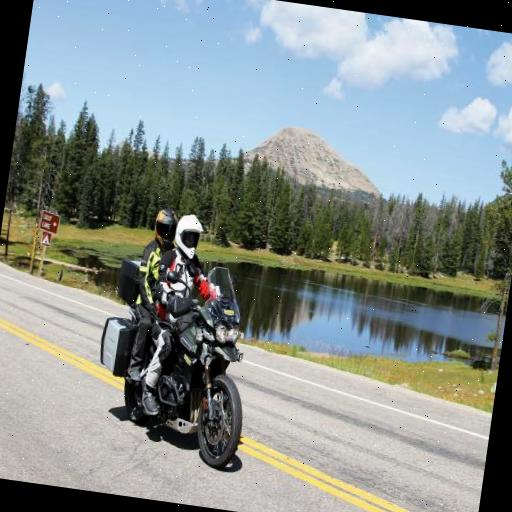helmet: (137, 204, 264, 466)
